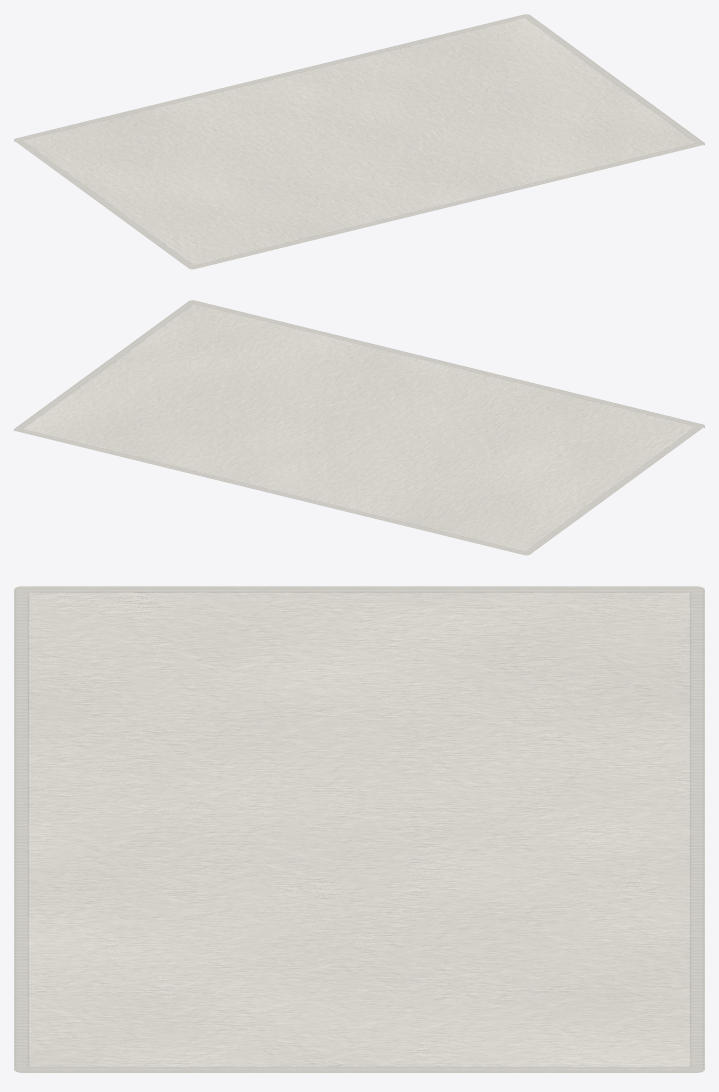
The model's file is ivory_widehall_r90.glb.
The picture shows the model from 3 angles, top to bottom: view 1: azimuth 30°, elevation 25°; view 2: azimuth 150°, elevation 25°; view 3: azimuth 270°, elevation 25°; orthographic projection. The views are drawn at different scales.
Parts seen in each view (by area): view 1: reliv_ivory_widehall_r90; view 2: reliv_ivory_widehall_r90; view 3: reliv_ivory_widehall_r90.
Part boxes in pixels (left/top/right/bottom): reliv_ivory_widehall_r90: left=14, top=14, right=704, bottom=269; reliv_ivory_widehall_r90: left=14, top=300, right=704, bottom=555; reliv_ivory_widehall_r90: left=14, top=586, right=704, bottom=1072.
Size of the model in its own units: 2 by 0.009 by 1.2.
2 materials, 1 textured.
